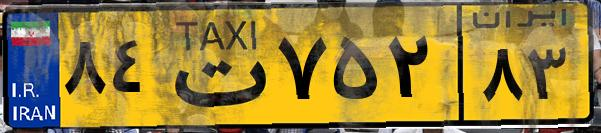2: (385, 28, 445, 110)
3: (525, 38, 570, 115)
4: (110, 28, 158, 98)
5: (330, 28, 385, 110)
7: (270, 28, 330, 110)
8: (57, 26, 110, 100), (475, 38, 525, 113)
ت: (158, 12, 270, 120)
